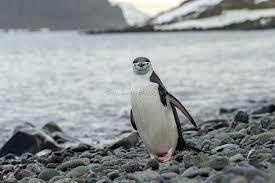chinstrap: (87, 40, 199, 166)
